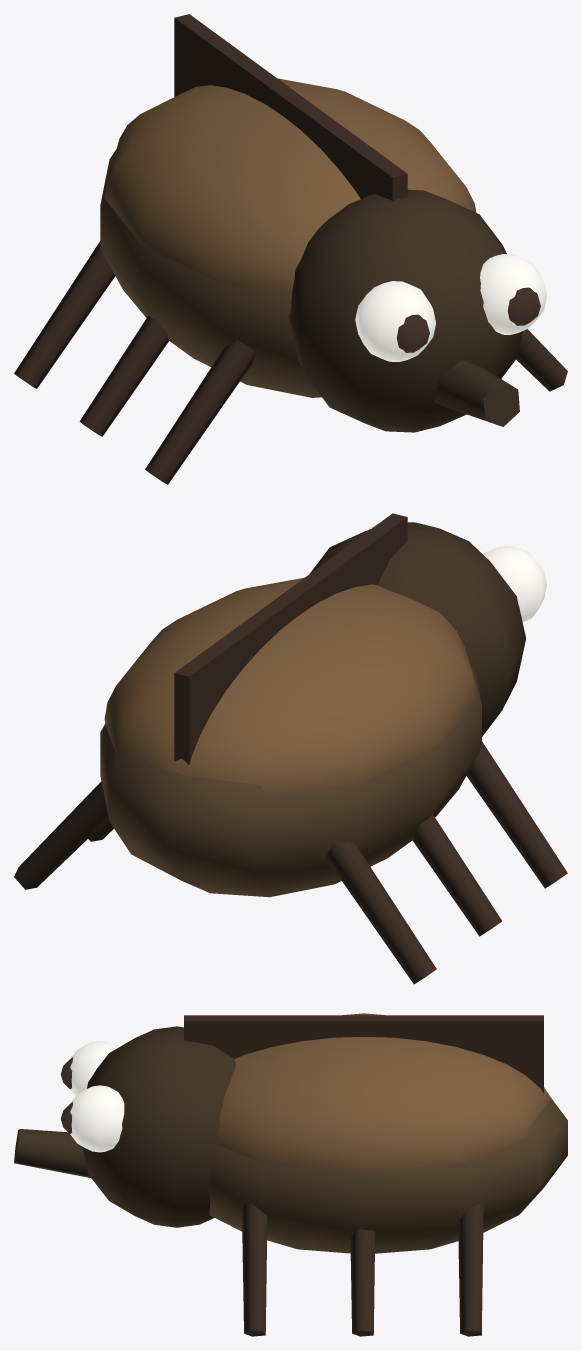
File: gorgojo.glb
The picture shows the model from 3 angles, top to bottom: view 1: azimuth 30°, elevation 25°; view 2: azimuth 150°, elevation 25°; view 3: azimuth 270°, elevation 25°; orthographic projection. The views are drawn at different scales.
Visible parts, largest first — view 1: caparazon, cabeza, cuerpo, raya, pata2, pata0, ojo0, pata1, trompa, ojo1, pata5, pupila0 (+1 smaller); view 2: caparazon, cuerpo, cabeza, raya, pata0, pata2, pata1, pata3, ojo0; view 3: caparazon, cuerpo, cabeza, raya, pata5, pata3, ojo1, trompa, pata4, ojo0.
Part boxes in pixels (<box>): caparazon: <box>104,78,476,292</box>; cabeza: <box>289,189,522,432</box>; cuerpo: <box>100,149,321,397</box>; raya: <box>174,14,407,200</box>; pata2: <box>145,339,254,484</box>; pata0: <box>14,241,115,388</box>; ojo0: <box>355,281,436,361</box>; pata1: <box>79,315,169,436</box>; trompa: <box>434,360,519,426</box>; ojo1: <box>480,254,546,334</box>; pata5: <box>516,329,567,391</box>; pupila0: <box>397,314,429,352</box>; caparazon: <box>104,577,477,793</box>; cuerpo: <box>100,666,481,897</box>; cabeza: <box>310,522,525,736</box>; raya: <box>174,513,407,764</box>; pata0: <box>325,841,436,984</box>; pata2: <box>466,741,567,888</box>; pata1: <box>412,814,501,936</box>; pata3: <box>14,781,108,889</box>; ojo0: <box>483,546,546,622</box>; caparazon: <box>217,1013,549,1171</box>; cuerpo: <box>207,1096,567,1253</box>; cabeza: <box>82,1026,235,1227</box>; raya: <box>184,1015,543,1093</box>; pata5: <box>242,1202,267,1336</box>; pata3: <box>458,1202,483,1336</box>; ojo1: <box>70,1085,124,1152</box>; trompa: <box>14,1129,90,1177</box>; pata4: <box>350,1228,375,1336</box>; ojo0: <box>70,1040,118,1096</box>.
Bounding box in the file's own units: 0.1659 × 0.111 × 0.2308.
